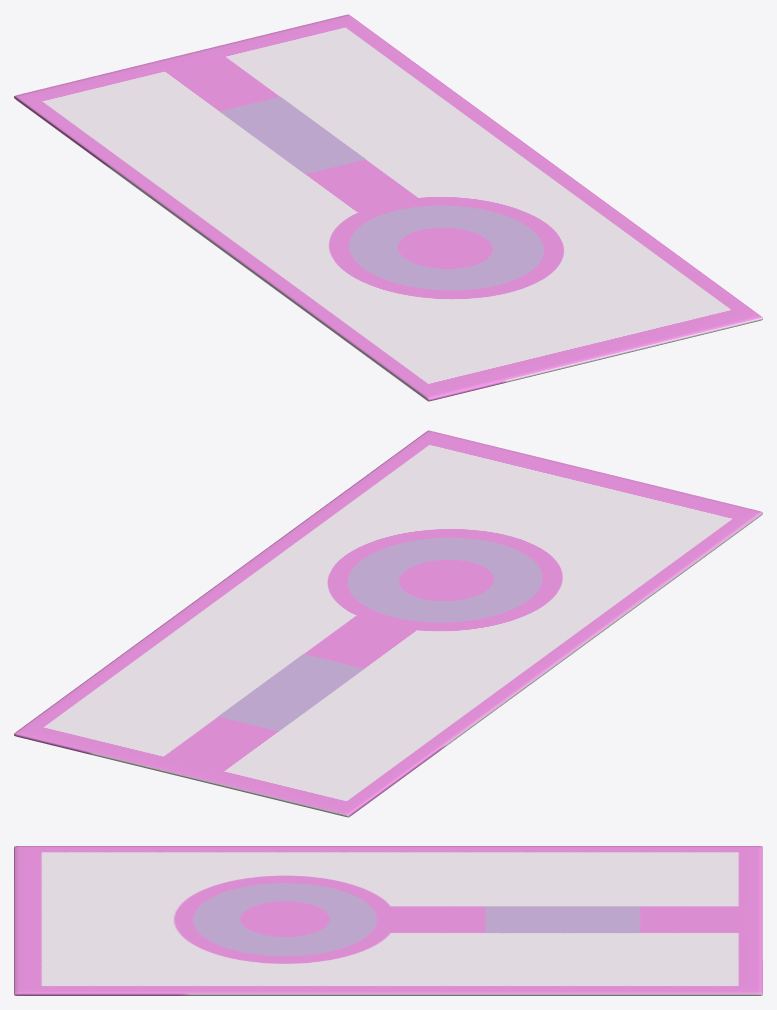
File: alfombra.obj
3 views of the same model, one above another, from view 1: azimuth 30°, elevation 25°; view 2: azimuth 150°, elevation 25°; view 3: azimuth 270°, elevation 25° (orthographic). The views are drawn at different scales.
Visible parts, largest first — view 1: _Rectangular_rug_v1; view 2: _Rectangular_rug_v1; view 3: _Rectangular_rug_v1.
Part boxes in pixels (x1,y1,x2,y2): _Rectangular_rug_v1: (14, 14, 762, 401); _Rectangular_rug_v1: (14, 430, 762, 817); _Rectangular_rug_v1: (14, 846, 762, 995).
Bounding box in the file's own units: 0.3107 × 0.00307 × 0.6664.
Materials: 1 (1 with a texture image).
